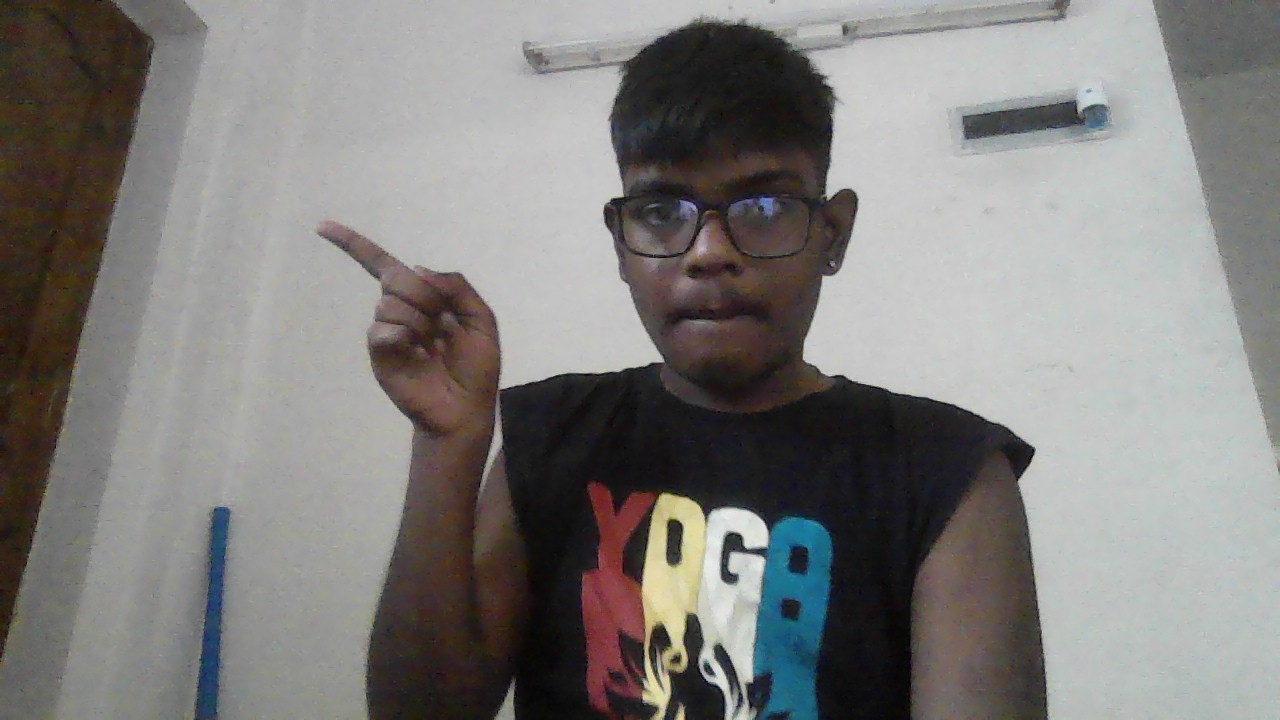Z: (316, 219, 499, 422)
